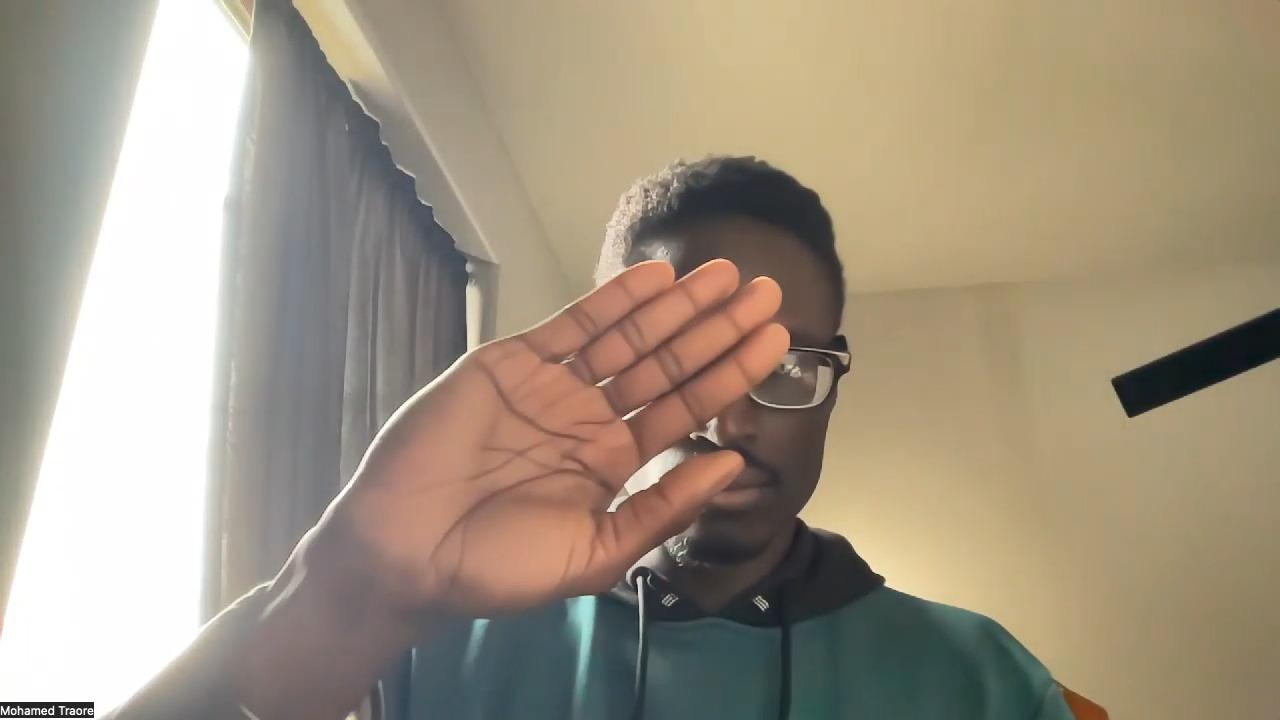Paper: (318, 257, 793, 614)
